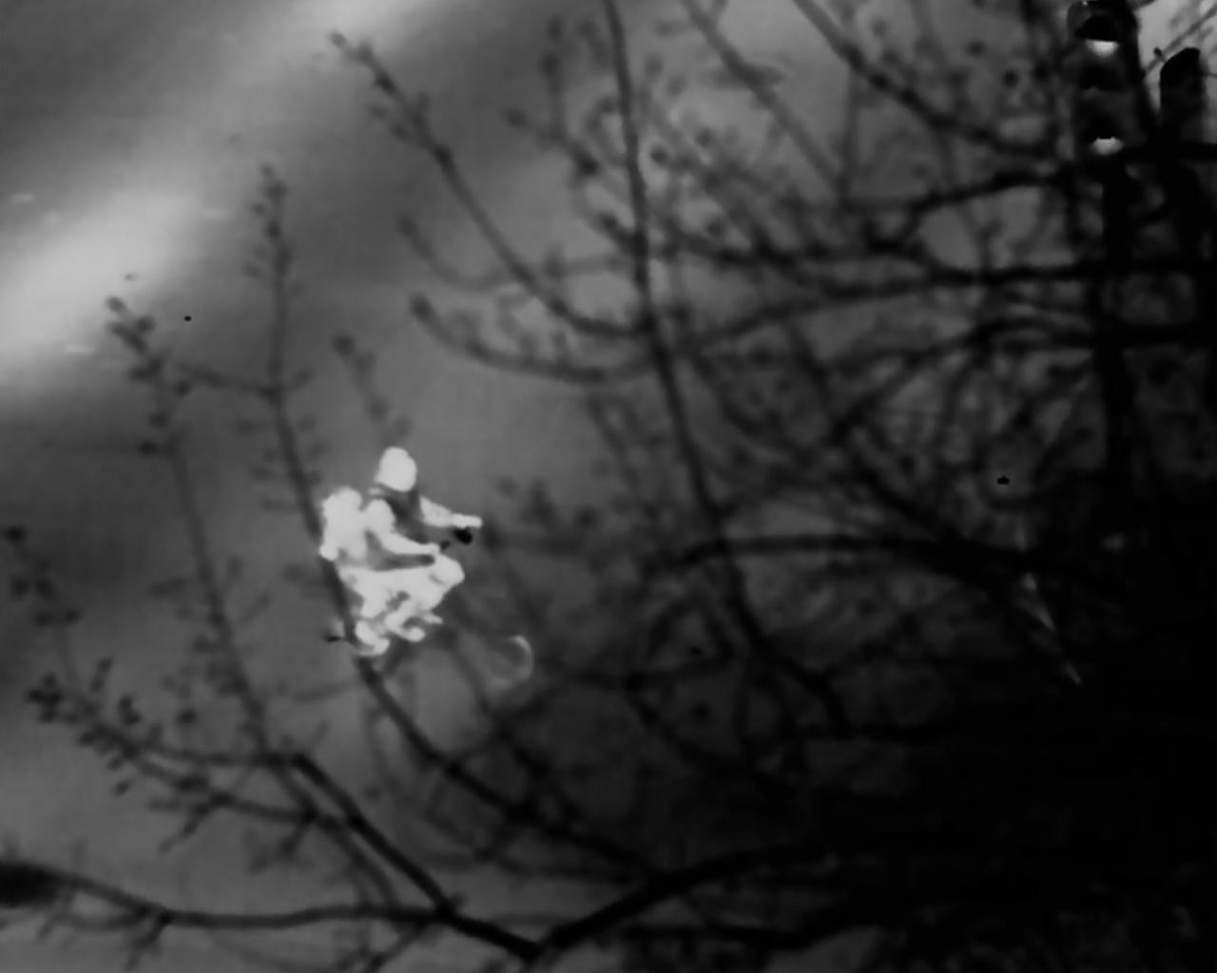person: (364, 448, 473, 658), (312, 486, 391, 654)
